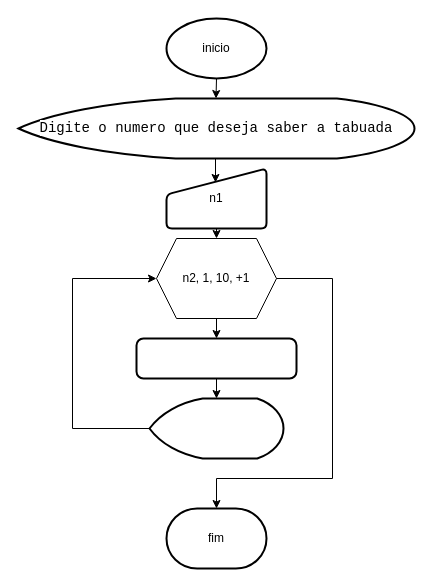
This 432x586 diagram has some shape labels left out. Here are the shapes that lost their labels. From the top down, the box of each, then its label:
(135, 337, 297, 379): resultado = n2*n1
(148, 397, 284, 459): n2 x n1 = resultado.
